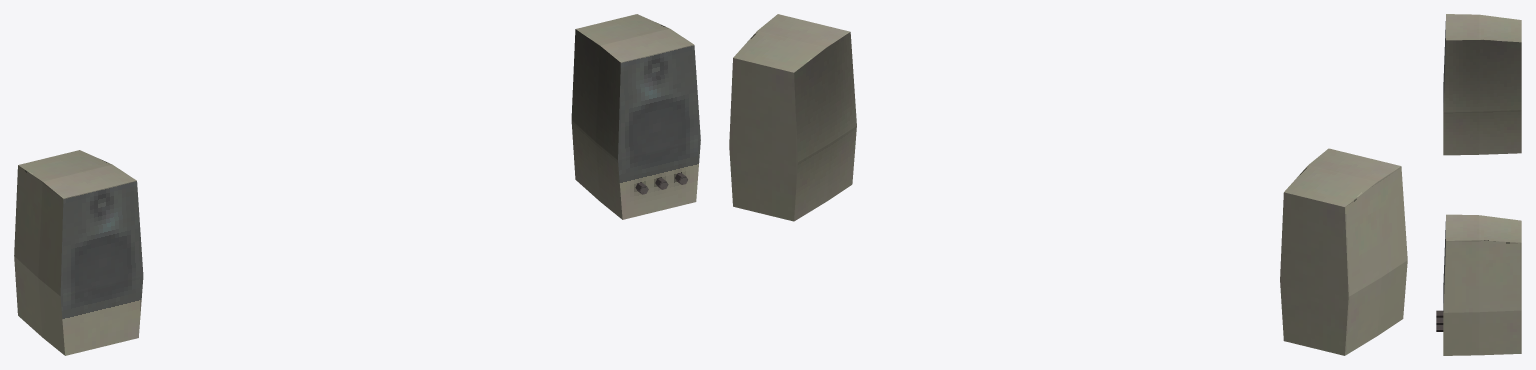
The model's file is Computer Speakers.glb.
The picture shows the model from 3 angles, left to right: view 1: azimuth 30°, elevation 25°; view 2: azimuth 150°, elevation 25°; view 3: azimuth 270°, elevation 25°; orthographic projection. The views are drawn at different scales.
Parts seen in each view (by area): view 1: Speakers; view 2: Speakers; view 3: Speakers.
Part boxes in pixels (left/top/right/bottom): Speakers: left=14, top=14, right=700, bottom=355; Speakers: left=729, top=14, right=1407, bottom=355; Speakers: left=1436, top=14, right=1521, bottom=355.
Size of the model in its own units: 1.04 by 0.2414 by 0.1628.
1 material, 1 textured.
